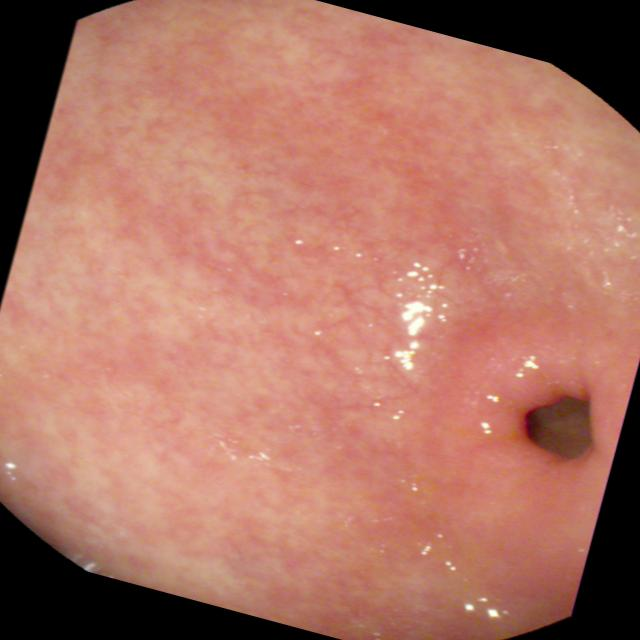normal-pylorus: (411, 311, 640, 596)
